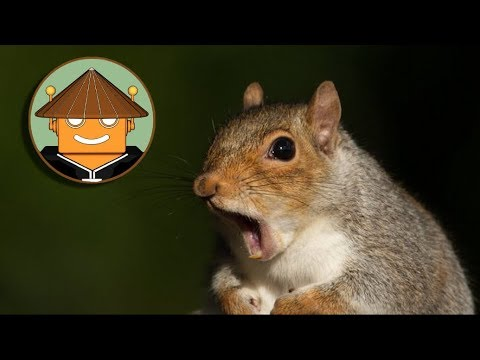Ardilla: (186, 71, 438, 316)
